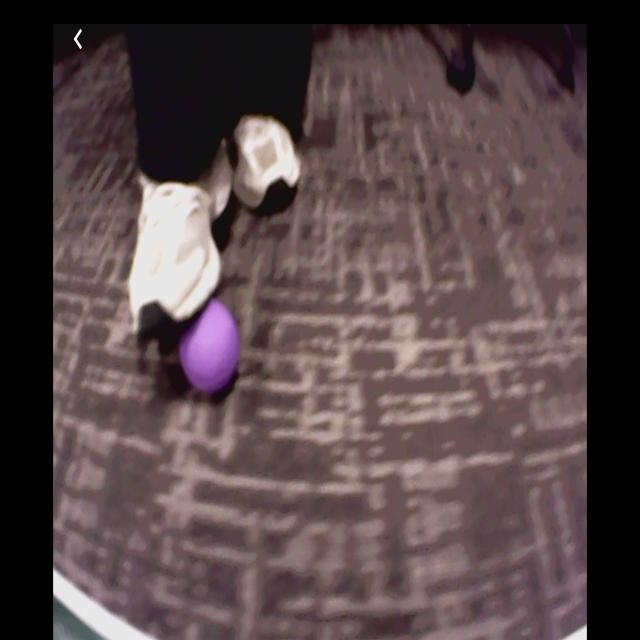ball: (181, 300, 241, 394)
